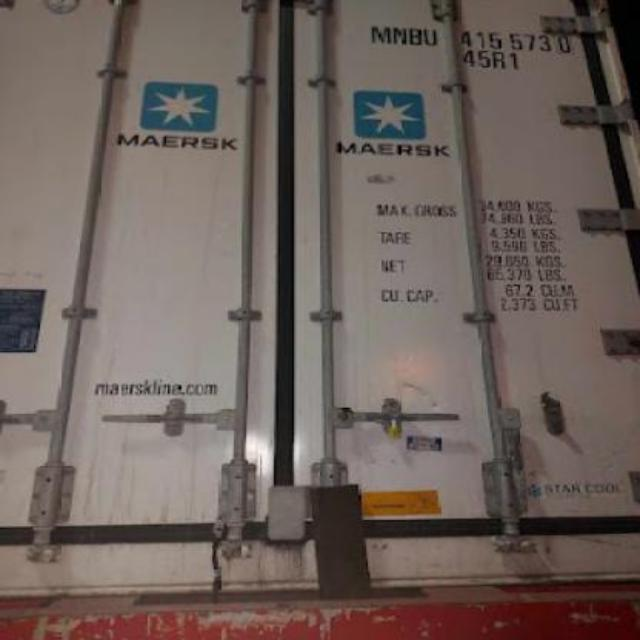0: (558, 35, 570, 53)
1: (478, 30, 488, 50)
3: (538, 35, 554, 53)
4: (461, 28, 474, 50)
5: (510, 31, 526, 54), (490, 30, 502, 50)
7: (524, 32, 540, 52)
B: (408, 26, 424, 46)
M: (370, 25, 390, 45)
N: (390, 26, 406, 46)
U: (422, 27, 440, 47)
